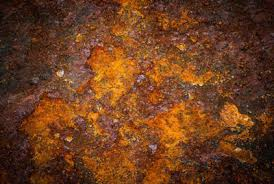rust: (2, 1, 272, 183)
